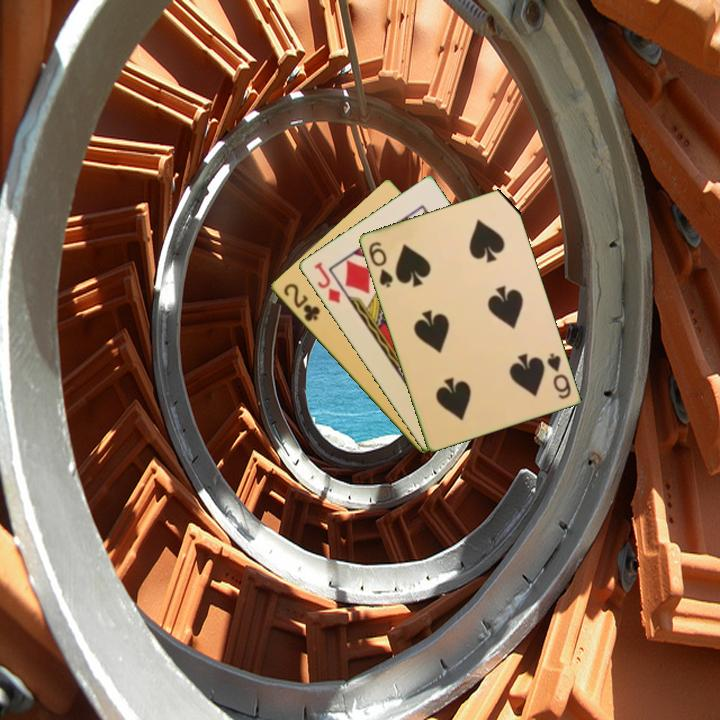2c: (280, 280, 323, 324)
6s: (543, 349, 574, 402), (365, 238, 395, 290)
Jd: (310, 258, 343, 306)
